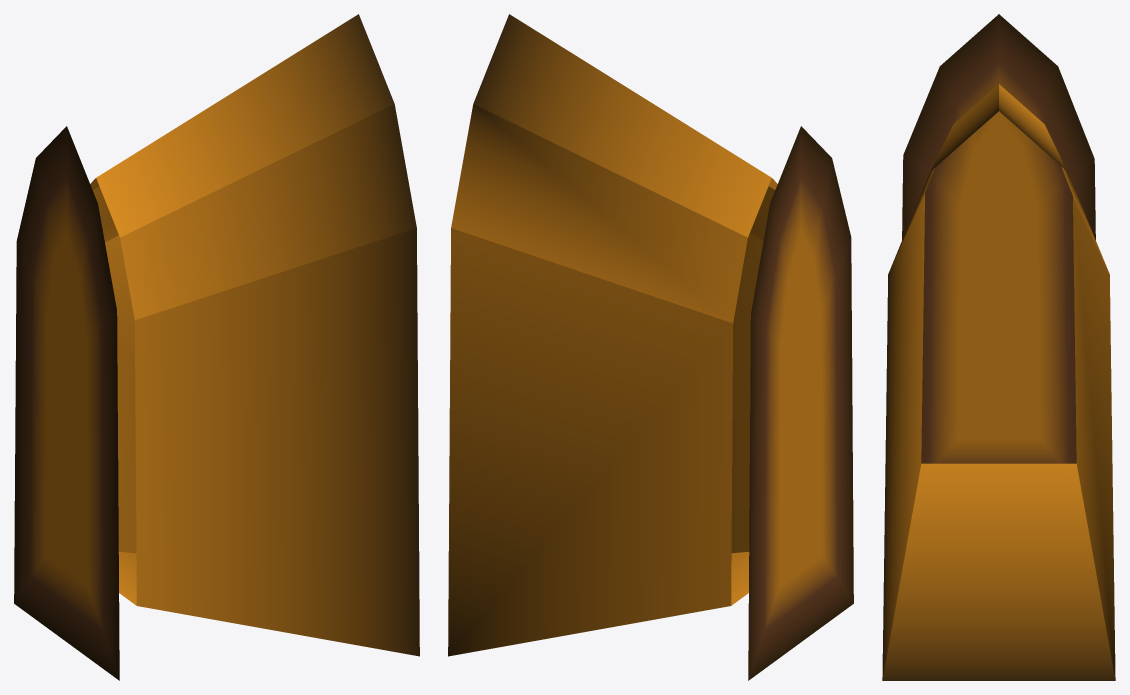
Rendered from Wall_FakeSmallWindow_Light.fbx.
3 renders of one model, left to right at view 1: azimuth 30°, elevation 25°; view 2: azimuth 150°, elevation 25°; view 3: azimuth 270°, elevation 25°, orthographic. The views are drawn at different scales.
Parts seen in each view (by area): view 1: Wall_FakeSmallWindow_Light; view 2: Wall_FakeSmallWindow_Light; view 3: Wall_FakeSmallWindow_Light.
Boxes of the visible parts, x1=… form: Wall_FakeSmallWindow_Light: x1=14, y1=14, x2=419, y2=680; Wall_FakeSmallWindow_Light: x1=448, y1=14, x2=853, y2=680; Wall_FakeSmallWindow_Light: x1=882, y1=14, x2=1115, y2=680.
Size of the model in its own units: 0.9472 by 1.85 by 0.6871.
